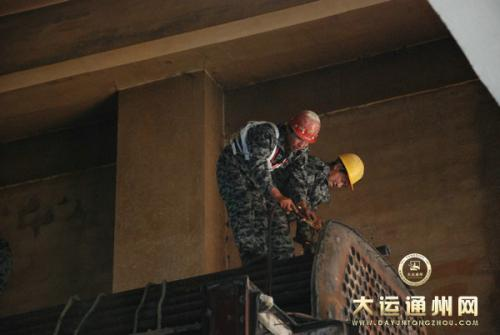hard-hat: (337, 151, 365, 190), (289, 109, 321, 143)
person: (215, 108, 322, 267), (268, 152, 365, 257)
ppe-suit: (215, 119, 295, 266), (281, 157, 327, 251)
